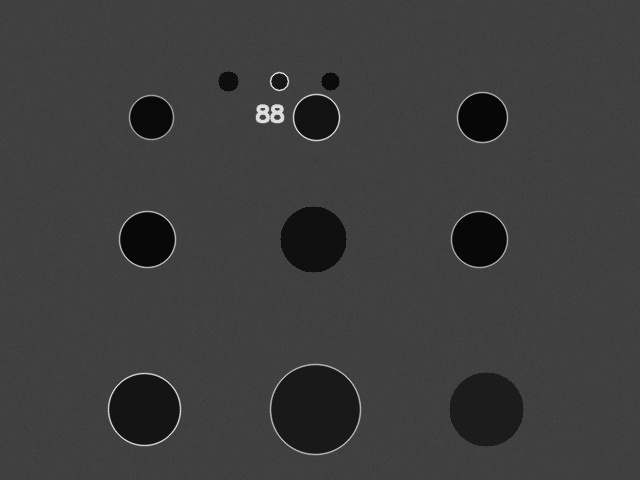hole: (270, 364, 360, 454), (449, 372, 523, 446), (108, 373, 180, 445), (280, 206, 346, 272), (119, 211, 175, 267), (451, 211, 507, 267), (457, 92, 507, 142), (293, 94, 339, 140), (129, 95, 173, 139), (218, 71, 238, 91), (270, 72, 288, 90), (321, 72, 339, 90)
